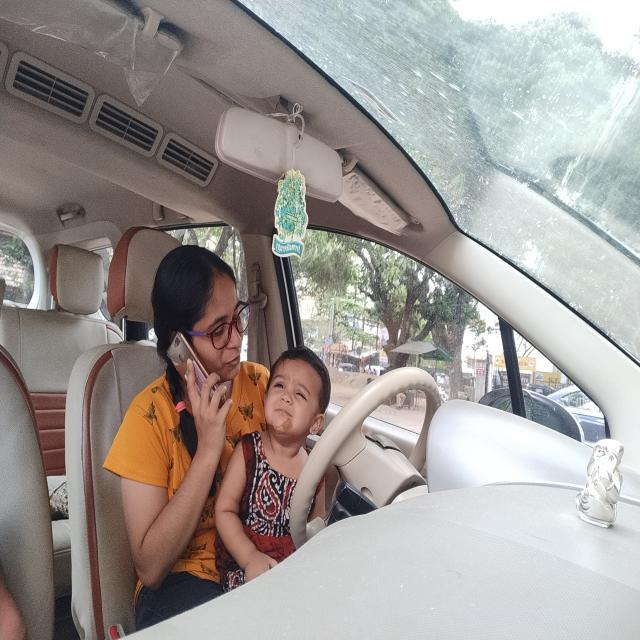child: (262, 346, 328, 440)
mobile: (161, 330, 231, 417)
person: (150, 243, 250, 383)
